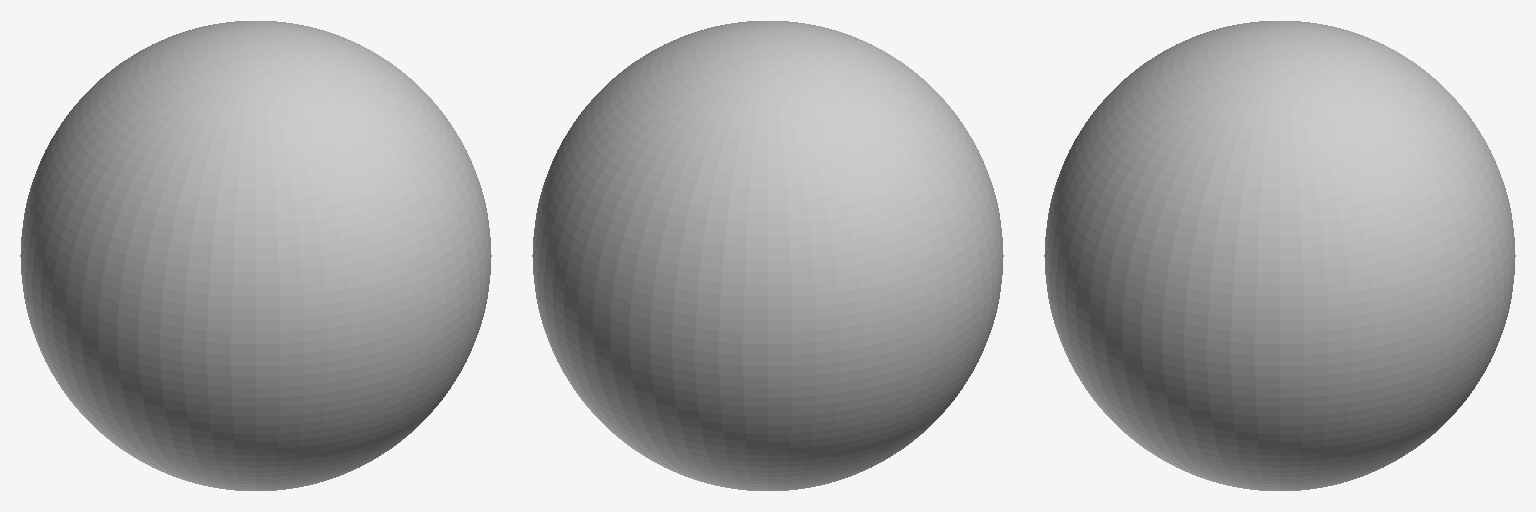
Rendered from sphereHires.obj.
The picture shows the model from 3 angles: view 1: azimuth 30°, elevation 25°; view 2: azimuth 150°, elevation 25°; view 3: azimuth 270°, elevation 25°; orthographic projection.
Parts seen in each view (by area): view 1: pSphere1; view 2: pSphere1; view 3: pSphere1.
Part boxes in pixels (bbox=[...]): pSphere1: bbox=[20, 21, 491, 490]; pSphere1: bbox=[532, 21, 1003, 490]; pSphere1: bbox=[1044, 21, 1515, 490].
Size of the model in its own units: 2 by 2 by 2.